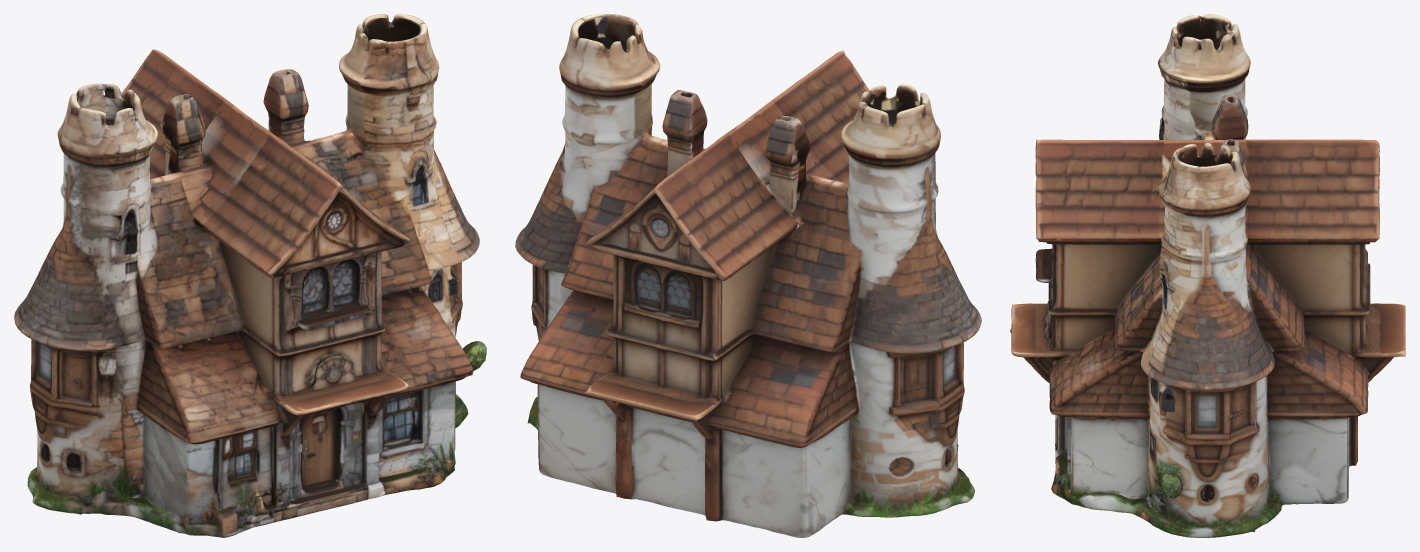
The model's file is model_fantasy_house_9348.glb.
The picture shows the model from 3 angles, left to right: view 1: azimuth 30°, elevation 25°; view 2: azimuth 150°, elevation 25°; view 3: azimuth 270°, elevation 25°; orthographic projection. The views are drawn at different scales.
Visible parts, largest first — view 1: model_0; view 2: model_0; view 3: model_0.
Part boxes in pixels (<box>): model_0: <box>14,14,486,537</box>; model_0: <box>515,14,981,537</box>; model_0: <box>1010,14,1405,537</box>.
Size of the model in its own units: 1 by 0.8324 by 0.8411.
Materials: 1 (1 with a texture image).
